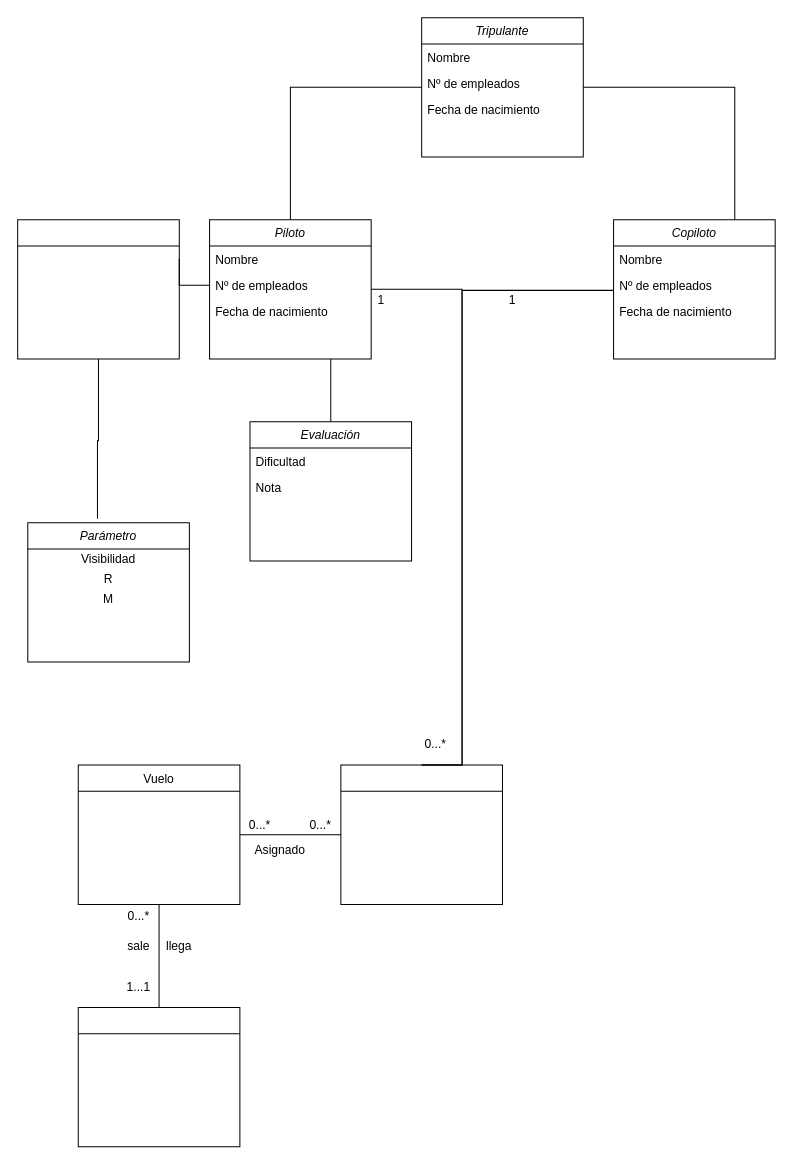
Image size: 793x1165. Some labels were removed from this diagram. Each missing label, with the centre of its shape:
"Aeropuerto" goes at [158,1076].
"Escenarios" goes at [98,289].
"Tripulación" goes at [421,834].
